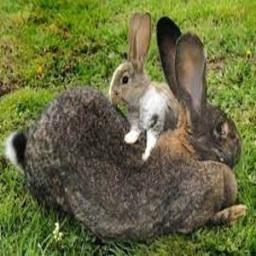rabbit: (8, 17, 245, 241), (110, 13, 177, 160)
